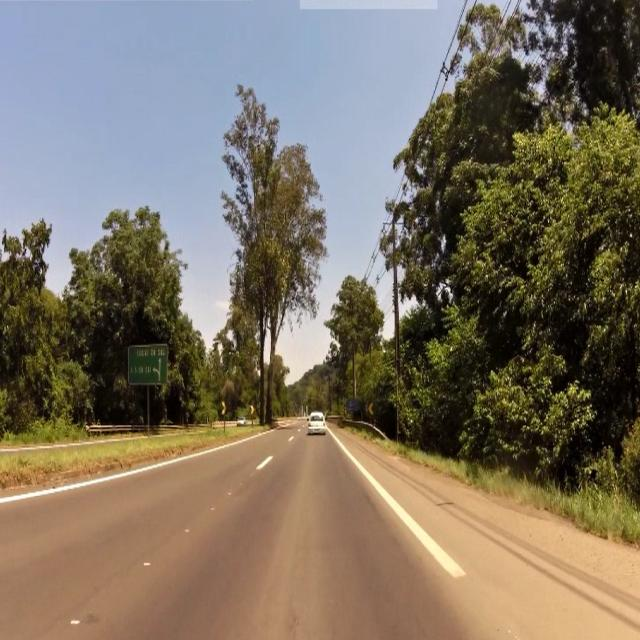Del: (220, 397, 230, 418), (368, 401, 377, 416), (249, 400, 254, 421)
I-4: (130, 342, 169, 384)
